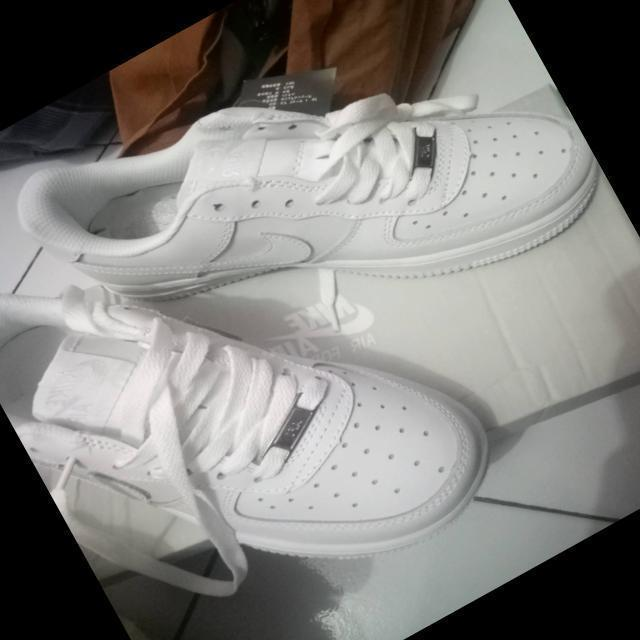nike fake air force: (0, 0, 619, 506), (0, 97, 519, 640)
